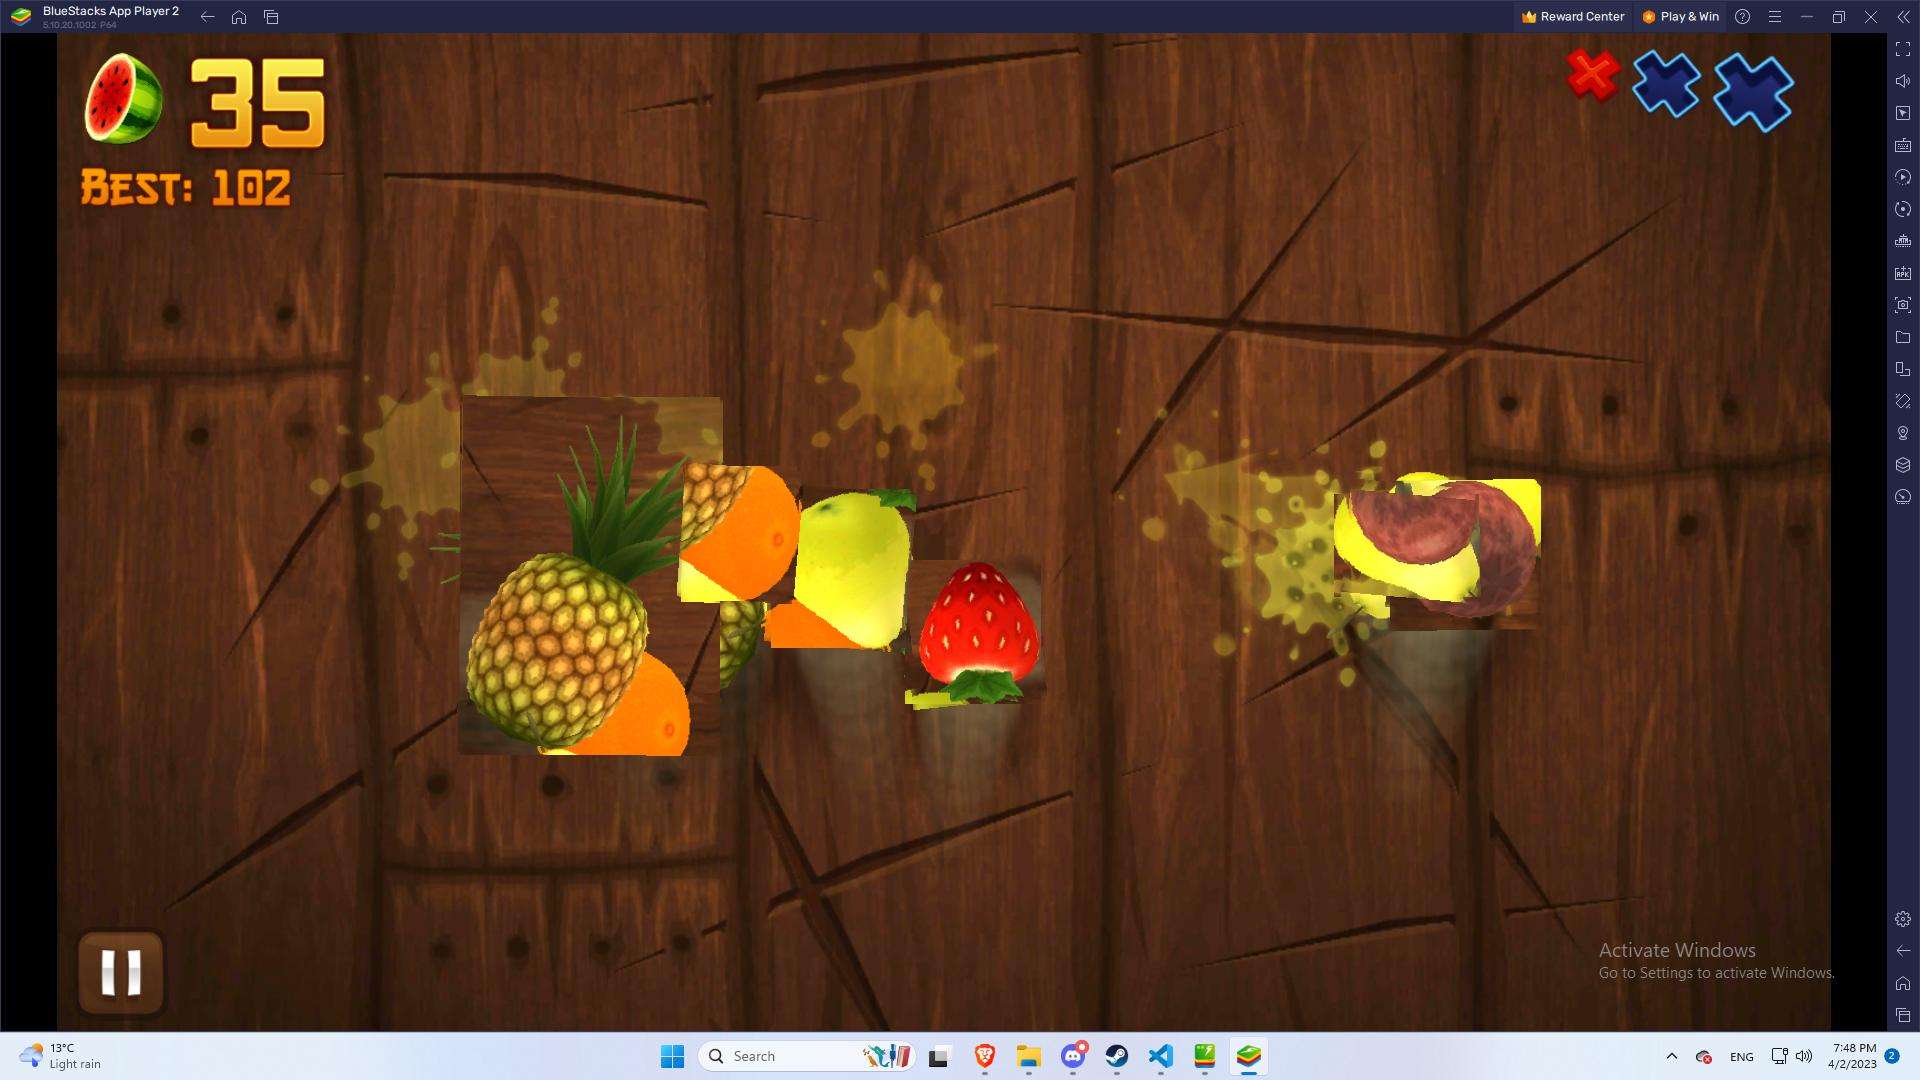fruit: (458, 398, 723, 754), (774, 488, 915, 651), (1390, 479, 1540, 632), (907, 556, 1042, 704), (1342, 481, 1473, 611), (679, 468, 799, 601)
